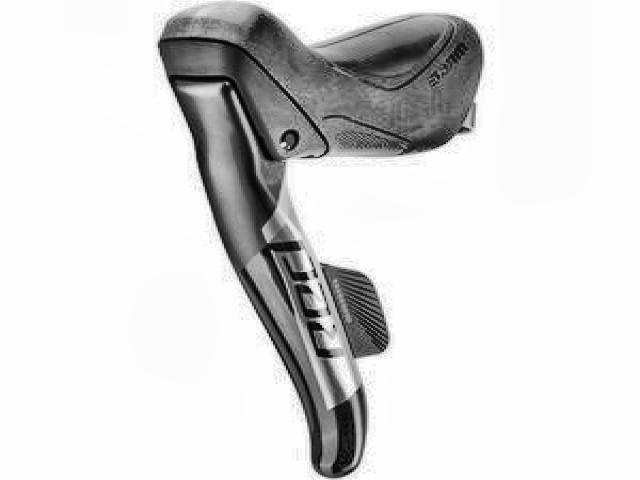sti_shifter: (154, 0, 476, 480)
